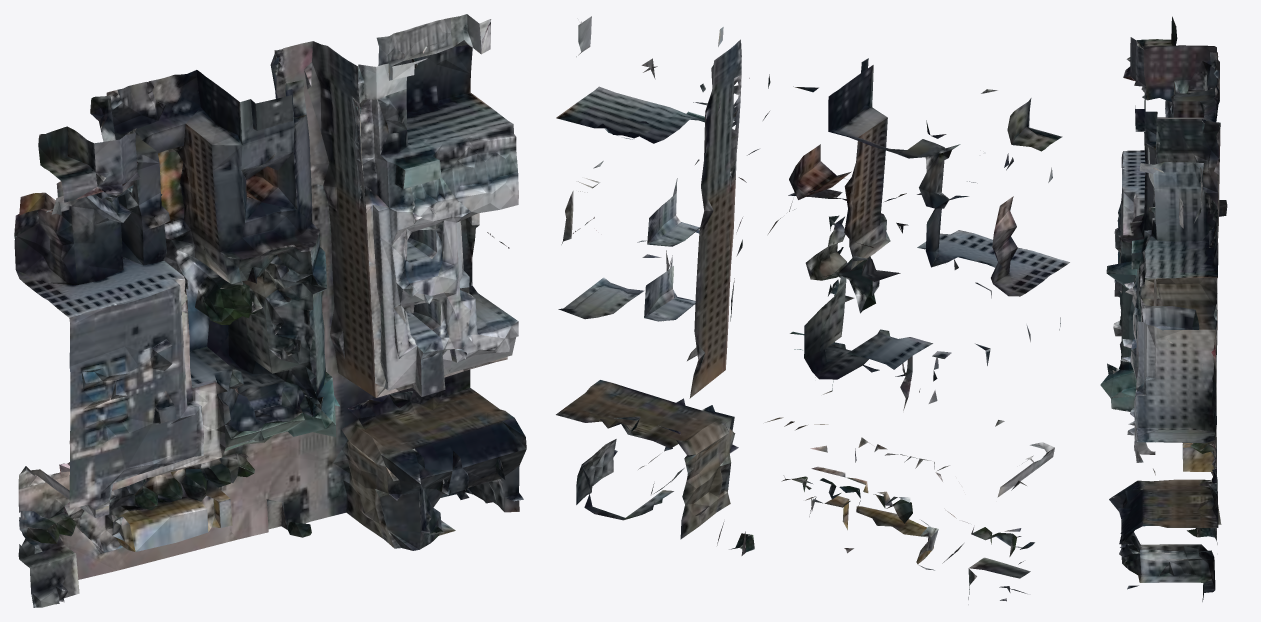
Rendered from Tile_+035_+019_L17_0001.glb.
3 views of the same model, side by side, from view 1: azimuth 30°, elevation 25°; view 2: azimuth 150°, elevation 25°; view 3: azimuth 270°, elevation 25° (orthographic). The views are drawn at different scales.
Bounding box in the file's own units: 126 × 126 × 41.3.
Materials: 1 (1 with a texture image).
